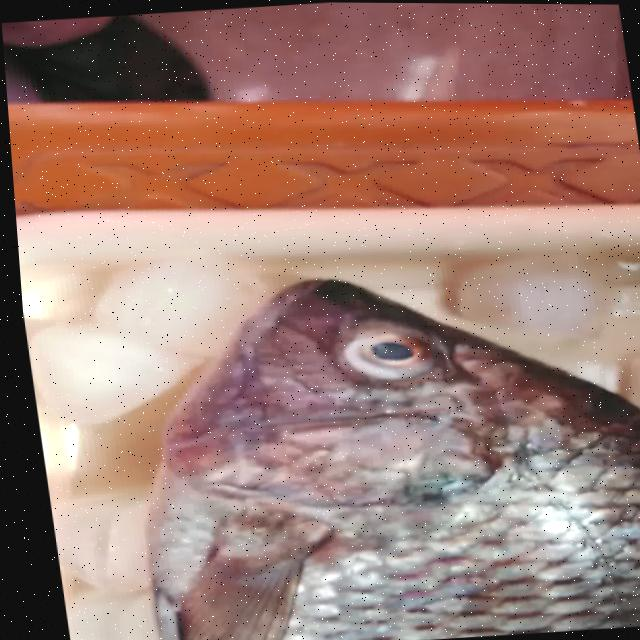Fresh: (145, 389, 640, 640), (315, 307, 454, 381)
